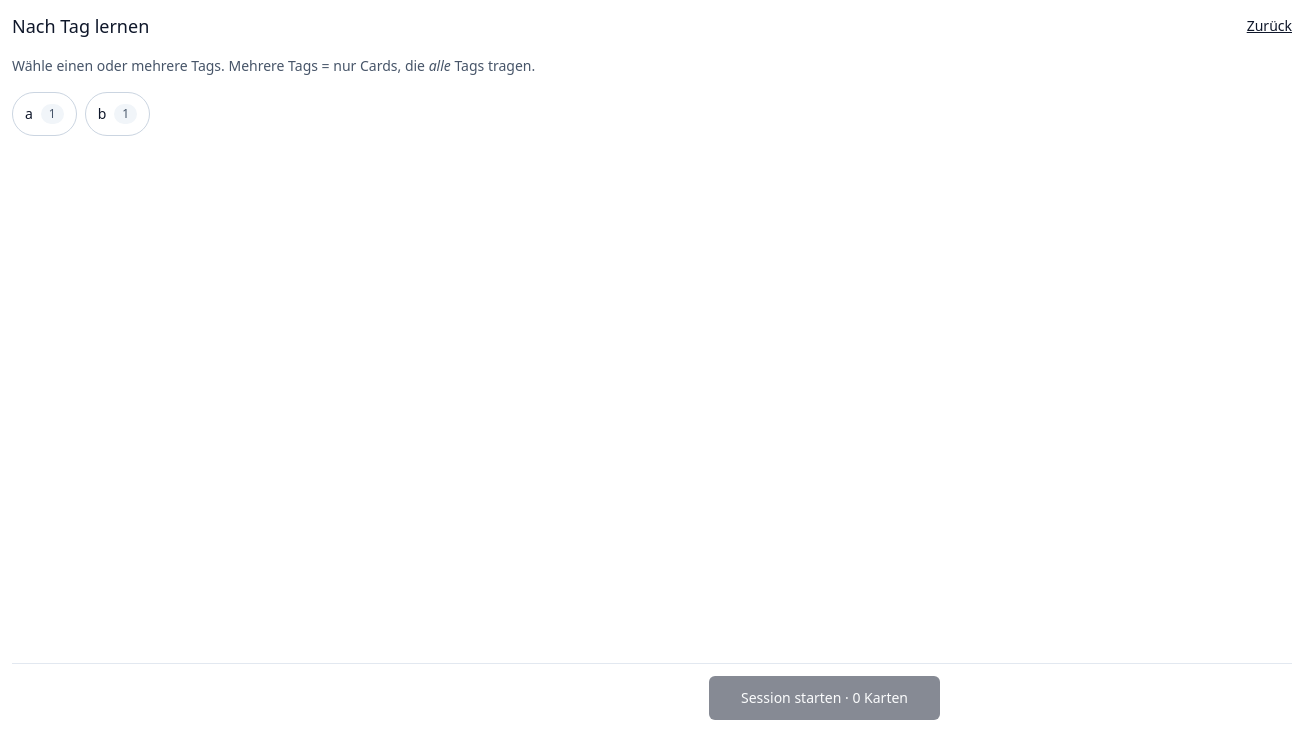
Scenario: TagPickerPage › disables chips whose AND-intersection with the selection is empty
What coordinates should you click on to do the following:
click the button "a 1"
I would click on:
 (44, 114)
Its box is [12,92,77,136].
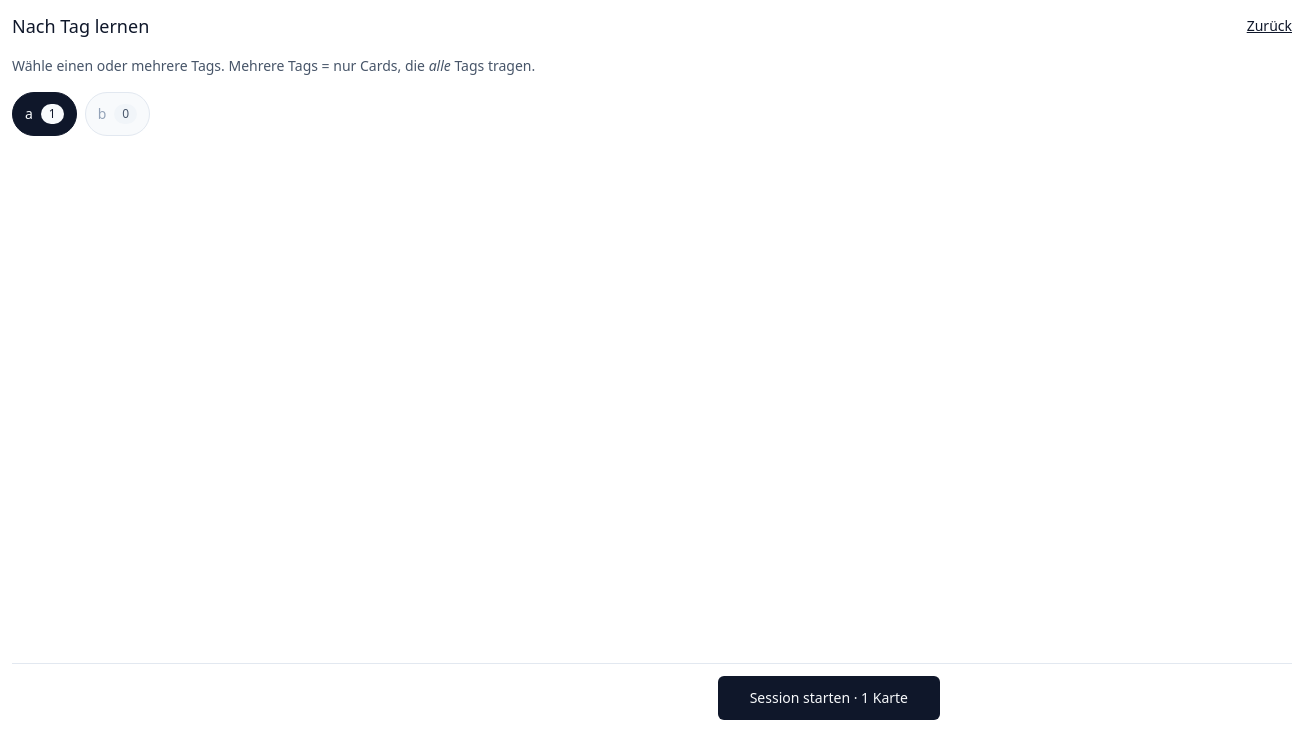
Result: the button "b 0" is disabled at [85,92,150,136]
